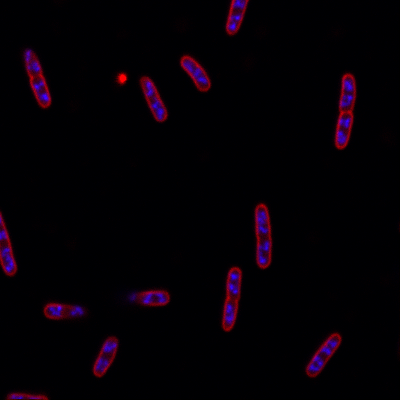Control: (333, 71, 359, 152), (303, 331, 344, 379), (137, 76, 169, 124), (252, 202, 274, 270), (221, 265, 243, 333), (180, 53, 213, 93), (90, 335, 120, 379)
Oblique: (22, 45, 54, 109), (121, 287, 172, 309), (42, 300, 89, 320)
Vesicle: (115, 71, 129, 87)
